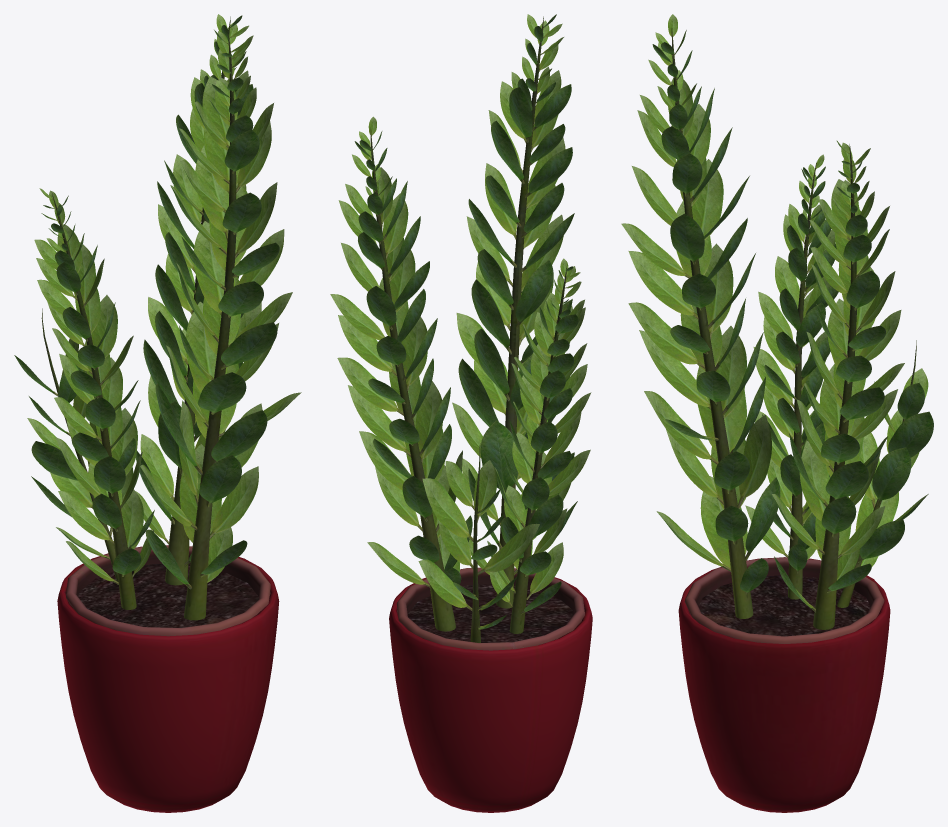
Rendered from indoor_plant.glb.
The picture shows the model from 3 angles, left to right: view 1: azimuth 30°, elevation 25°; view 2: azimuth 150°, elevation 25°; view 3: azimuth 270°, elevation 25°; orthographic projection. The views are drawn at different scales.
Visible parts, largest first — view 1: Circle; view 2: Circle; view 3: Circle.
Boxes of the visible parts, x1,y1,x2,y2 form: Circle: [14, 14, 301, 812]; Circle: [330, 14, 592, 812]; Circle: [621, 14, 933, 812].
Bounding box in the file's own units: 2.37 × 7.6 × 2.8.
Materials: 6 (5 with a texture image).
